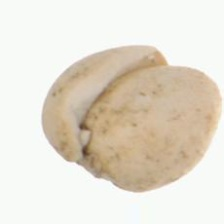L3: (149, 46, 214, 81)
L4: (42, 45, 221, 192)
